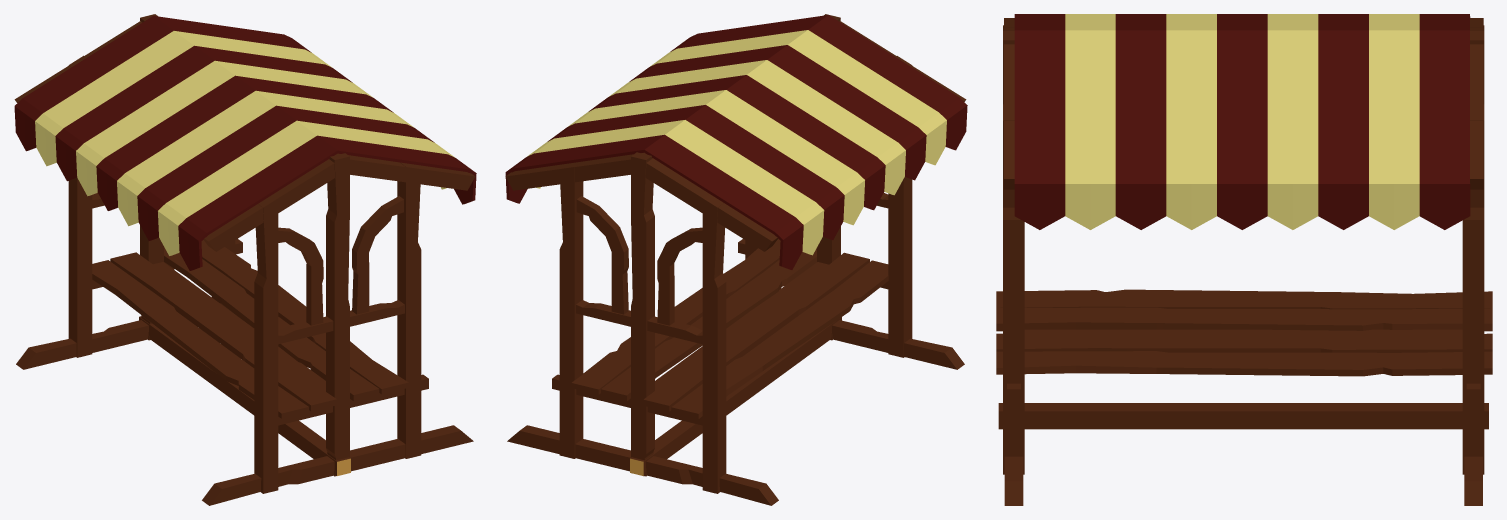
File: Village_MarketStand_1.glb
3 renders of one model, left to right at view 1: azimuth 30°, elevation 25°; view 2: azimuth 150°, elevation 25°; view 3: azimuth 270°, elevation 25°, orthographic. The views are drawn at different scales.
Visible parts, largest first — view 1: MarketStand_1; view 2: MarketStand_1; view 3: MarketStand_1.
Part boxes in pixels (box(x1,y1,x2,y2)): MarketStand_1: box(14, 14, 476, 505); MarketStand_1: box(505, 14, 967, 505); MarketStand_1: box(996, 14, 1492, 505).
Bounding box in the file's own units: 95.09 × 105 × 119.
